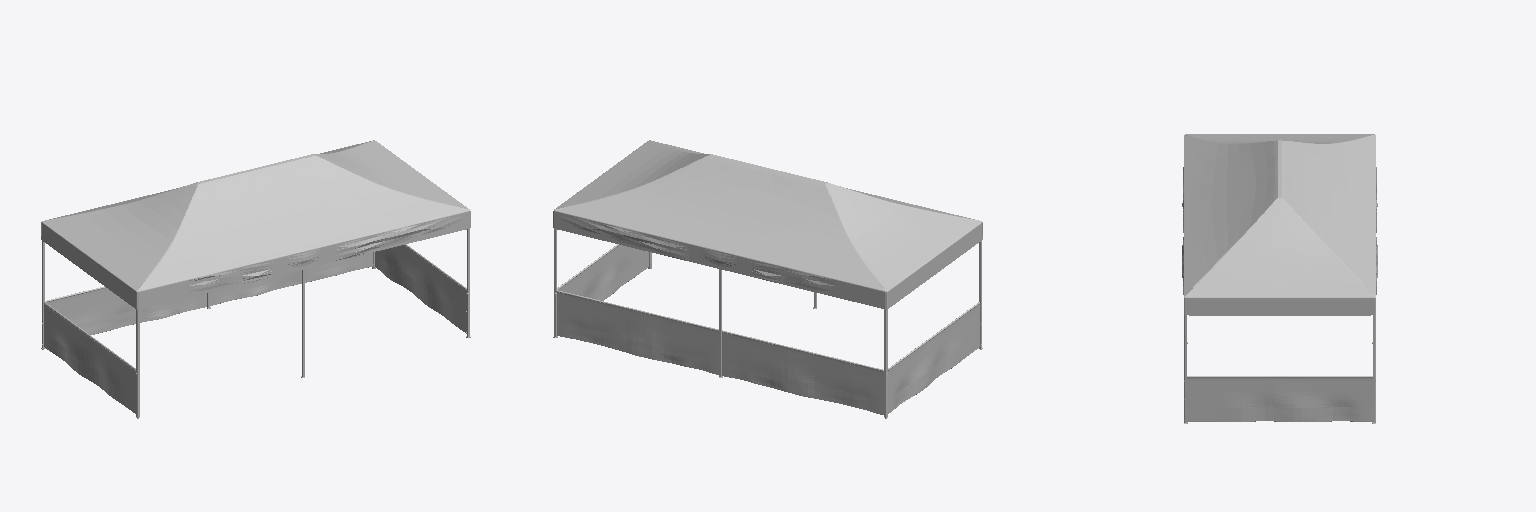
The model's file is large-display-tent-005.obj.
3 views of the same model, side by side, from view 1: azimuth 30°, elevation 25°; view 2: azimuth 150°, elevation 25°; view 3: azimuth 270°, elevation 25° (orthographic).
Visible parts, largest first — view 1: large-display-tent-005; view 2: large-display-tent-005; view 3: large-display-tent-005.
Part boxes in pixels (x1,y1,x2,y2): large-display-tent-005: (41, 140, 470, 418); large-display-tent-005: (553, 140, 982, 418); large-display-tent-005: (1182, 134, 1377, 423).
Size of the model in its own units: 6.01 by 2.99 by 3.06.